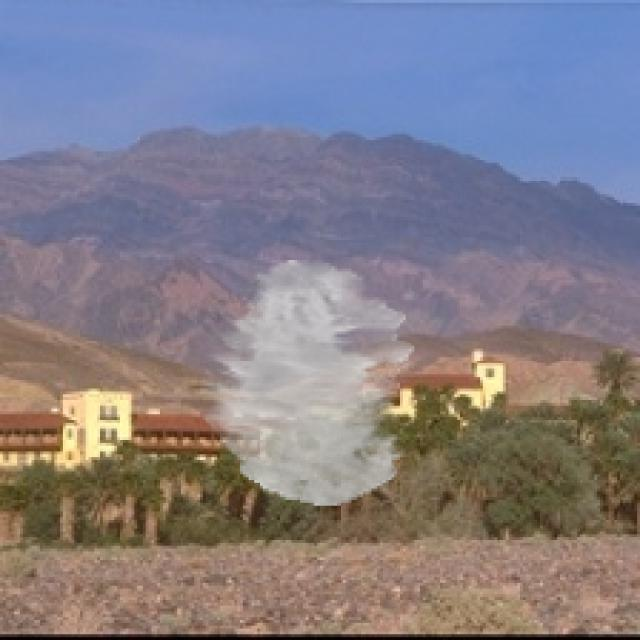Smoke: (200, 260, 414, 506)
